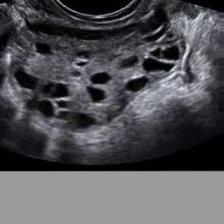pcos: (3, 1, 214, 158)
